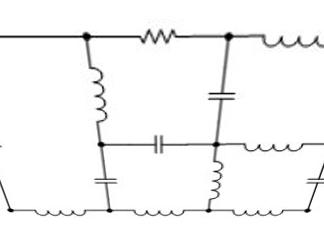inductor: (247, 24, 323, 55), (79, 61, 109, 133), (234, 133, 311, 157), (26, 199, 91, 226), (224, 201, 294, 223), (200, 157, 235, 196), (126, 201, 192, 218), (200, 157, 226, 196)
